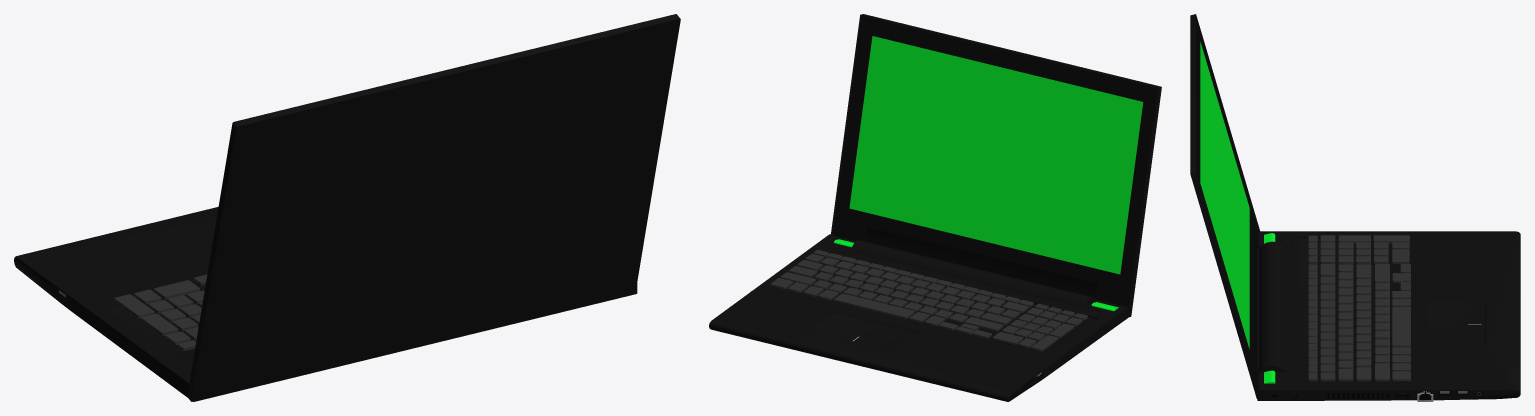
The picture shows the model from 3 angles, left to right: view 1: azimuth 30°, elevation 25°; view 2: azimuth 150°, elevation 25°; view 3: azimuth 270°, elevation 25°; orthographic projection. The views are drawn at different scales.
Parts seen in each view (by area): view 1: display, body, keyboard; view 2: display, body, keyboard; view 3: body, keyboard, display.
Boxes of the visible parts, box(x1,y1,x2,y2) form: display: box(187, 14, 680, 401); body: box(14, 207, 637, 401); keyboard: box(114, 274, 207, 350); display: box(831, 14, 1161, 317); body: box(709, 234, 1128, 401); keyboard: box(770, 250, 1087, 351); body: box(1257, 231, 1520, 401); keyboard: box(1308, 235, 1410, 381); display: box(1190, 14, 1275, 398).
Size of the model in its own units: 0.8839 by 0.592 by 0.7698.
Materials: 8 (3 with a texture image).
